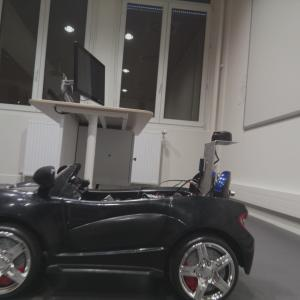big: (1, 162, 257, 299)
